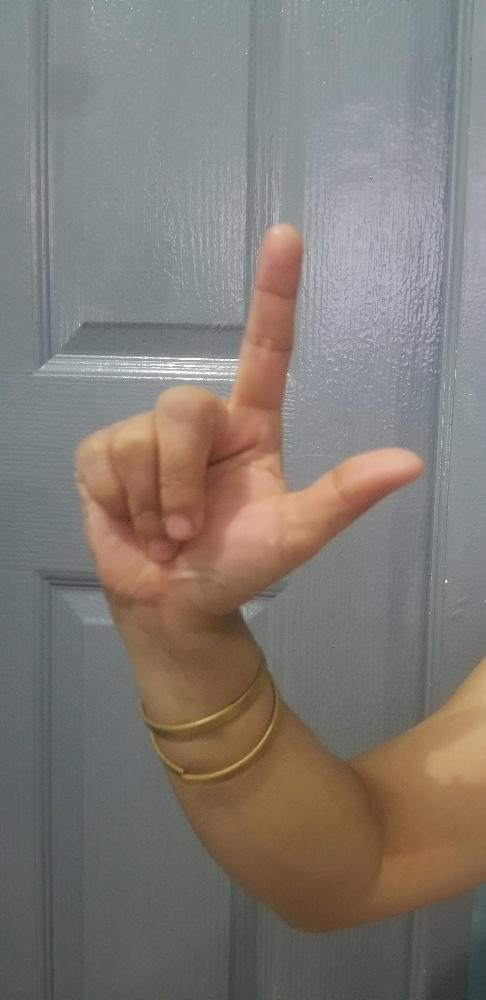l: (70, 219, 419, 614)
